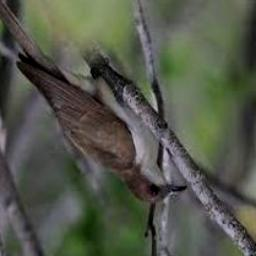Cuckoo: (0, 0, 189, 203)
